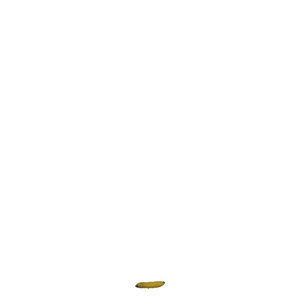banana: (133, 276, 166, 294)
